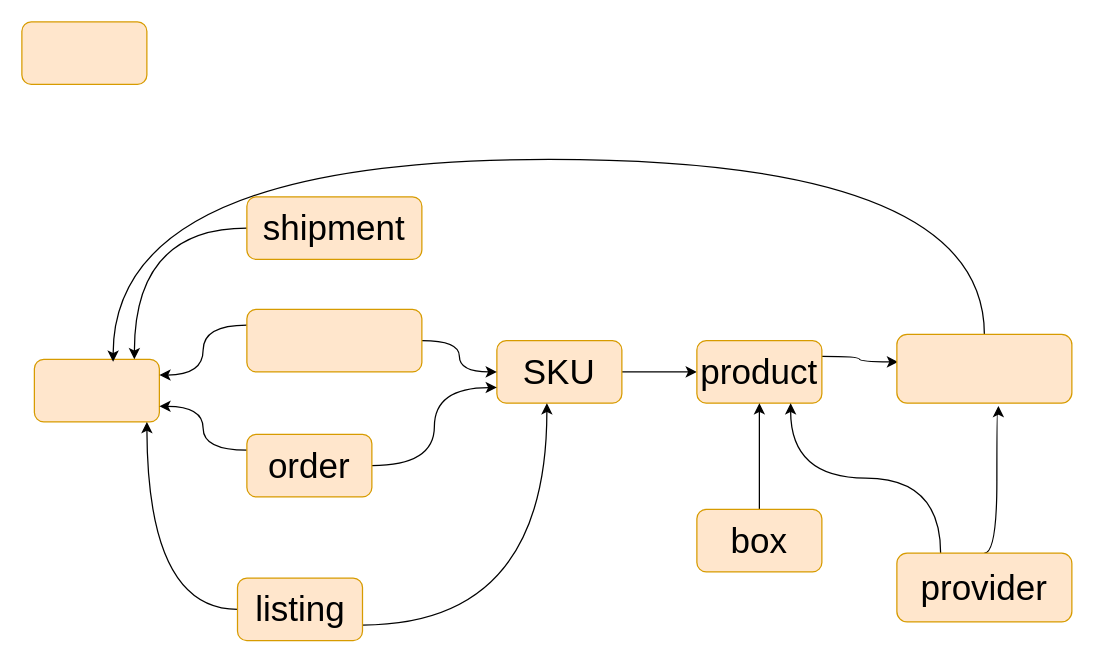
Image size: 1094x663. Some labels were removed from this diagram. The shapes that lost their labels are listed below. From the top down, each one's centre as x and y in pixels, then its label:
the point at 84,52: user
the point at 334,340: inventory
the point at 984,368: purchase
the point at 96,390: store
